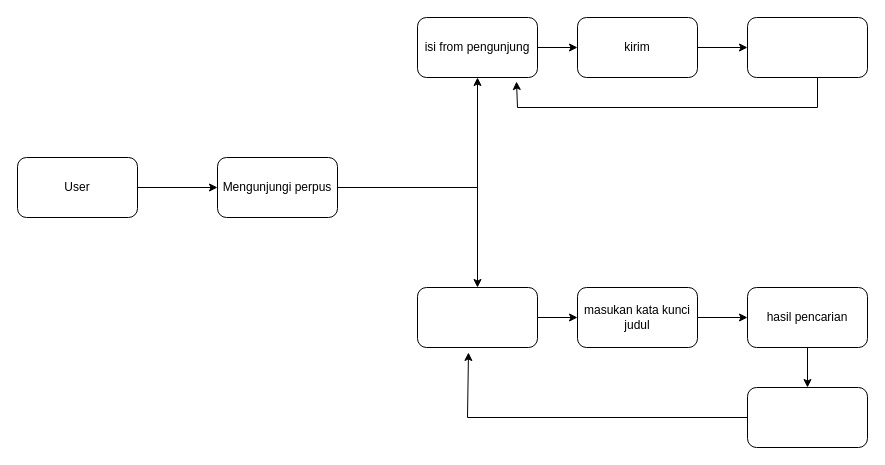
The diagram is 885 pixels wide and 465 high, and some of its shapes have lost their labels. Each missing label, with the centre of its shape:
"daftar kunjungan" belongs at [807,47].
"Lihat rincian buku" belongs at [807,417].
"pencarian buku" belongs at [477,317].
